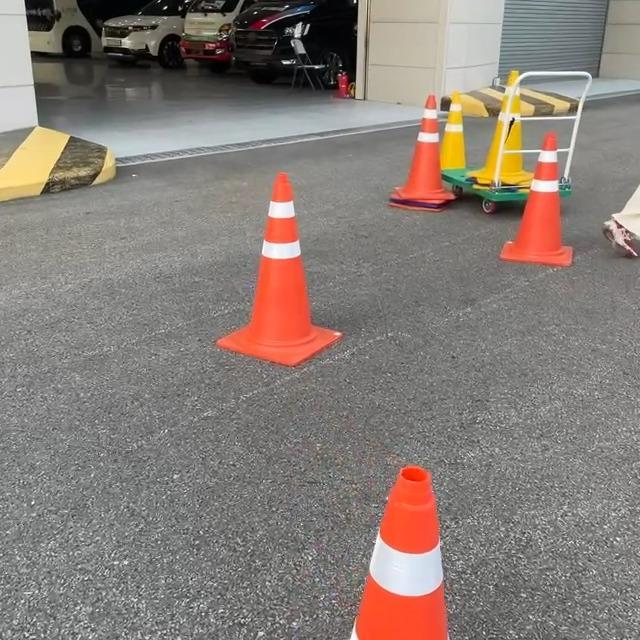fallen_object: (326, 423, 489, 640), (226, 162, 347, 400), (369, 40, 460, 271), (510, 130, 601, 277), (483, 60, 555, 184)
